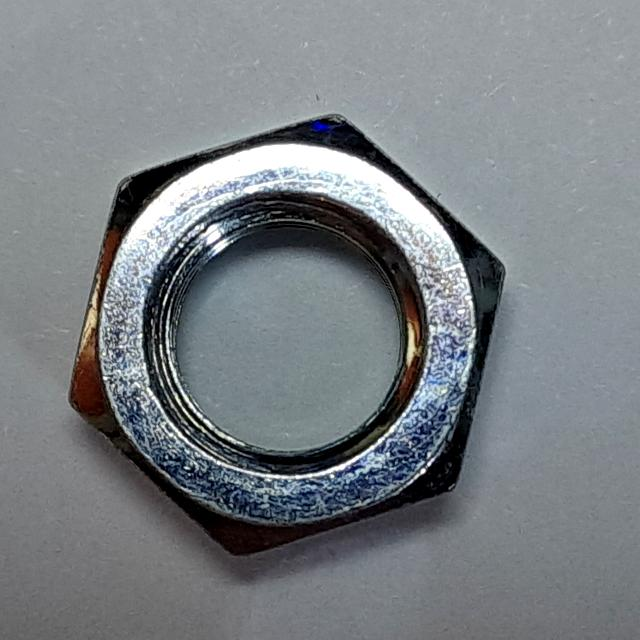Excellent: (55, 102, 522, 581)
